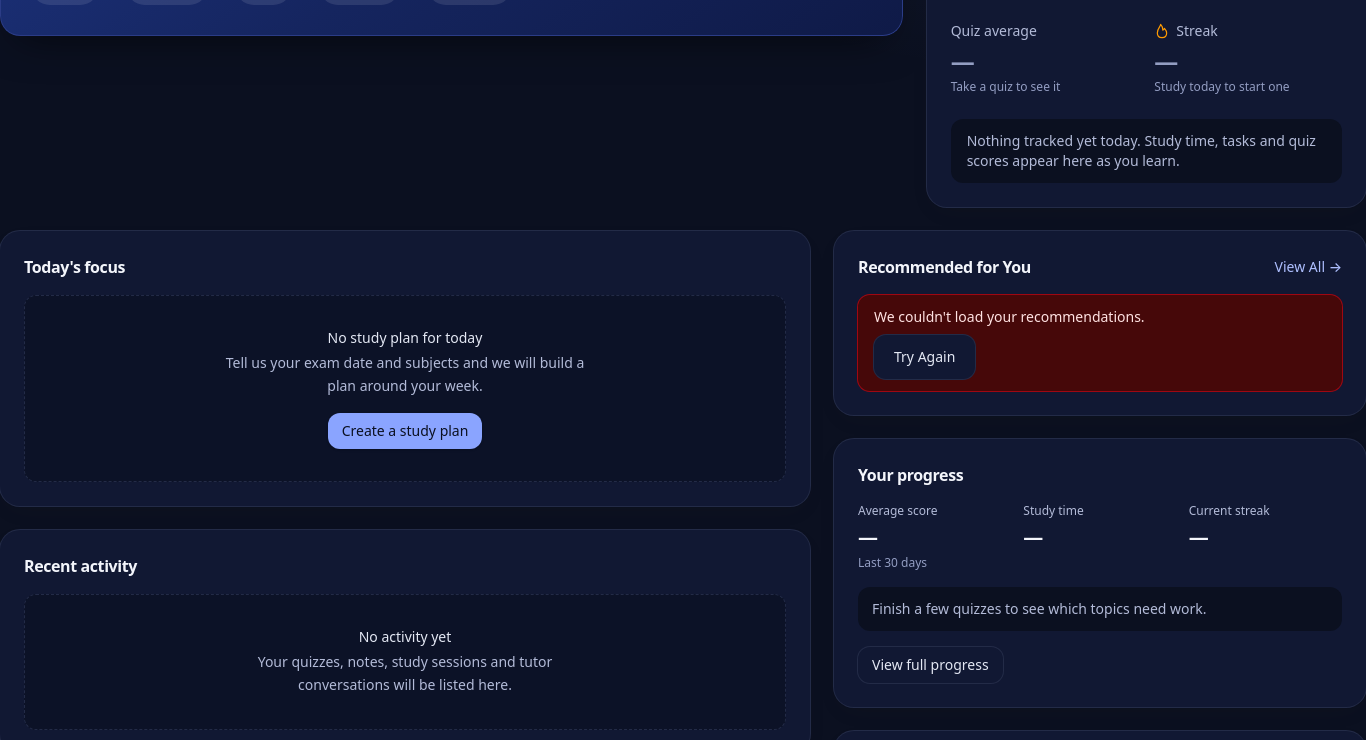
DashboardPage › if recommendations fail, the dashboard still works and that card can be retried on its own
(page scrolled)
Expected: the message shows "We couldn't load your recommendations.", left=874, top=307, right=1145, bottom=326
Step 1. Click the button "Try Again" → (925, 357), box left=874, top=335, right=975, bottom=379
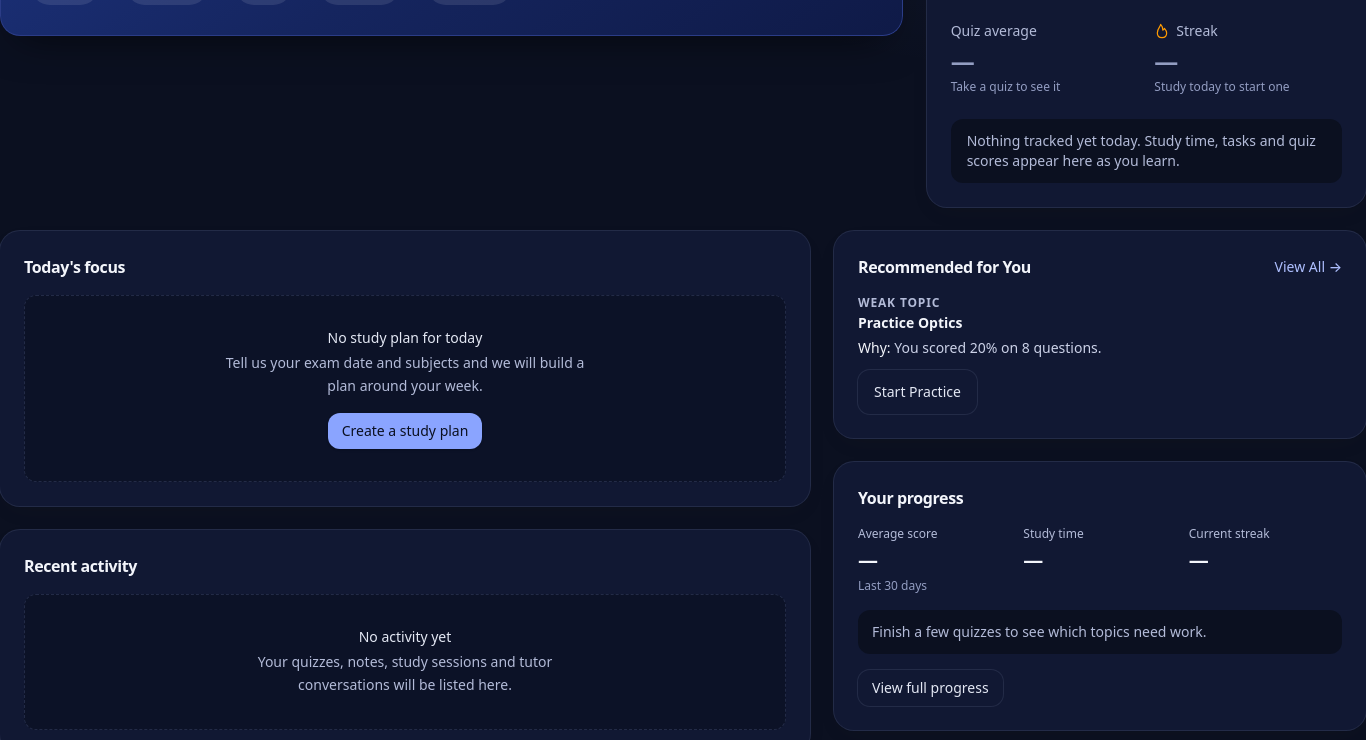
Expected: the heading "Practice Optics" is shown, left=858, top=313, right=962, bottom=332
